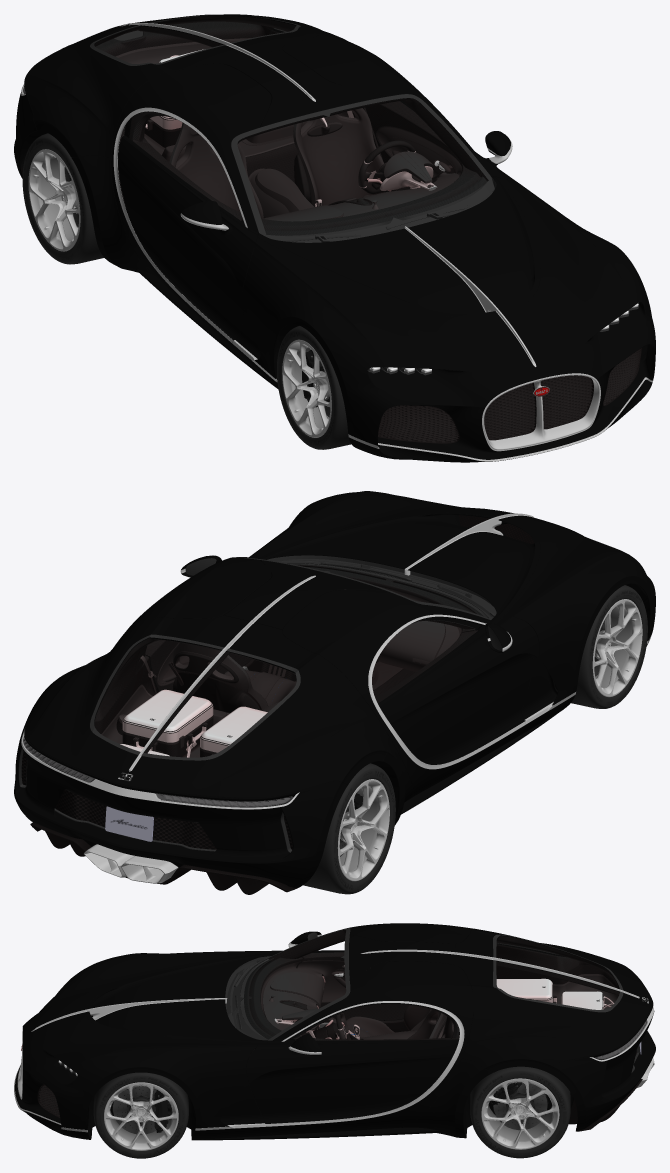
Rendered from black-car.glb.
The picture shows the model from 3 angles, top to bottom: view 1: azimuth 30°, elevation 25°; view 2: azimuth 150°, elevation 25°; view 3: azimuth 270°, elevation 25°; orthographic projection. The views are drawn at different scales.
Parts seen in each view (by area): view 1: body:Paint_Geo_lodABody_lodA_Bugatti_AtlanticConcept_2015Pai, Interior_Geo_lodA_Bugatti_AtlanticConcept_2015InteriorA_Mate, chrome:Coloured_Geo_lodABody_lodA, Carbon1M_Geo_lodA_Bugatti_AtlanticConcept_2015Carbon1M_Mater, Textured_Geo_lodA_Bugatti_AtlanticConcept_2015TexturedA_Mate, Carbon1_Geo_lodA_Bugatti_AtlanticConcept_2015Carbon1M_Materi, polySurface837_Bugatti_AtlanticConcept_2015_Wheel1A_3D_3DWhe, polySurface397_Bugatti_AtlanticConcept_2015_Wheel1A_3D_3DWhe, Grille4_Geo_lodA_Bugatti_AtlanticConcept_2015Grille4A_Materi, Base_Geo_lodA, polySurface712_Bugatti_AtlanticConcept_2015_Wheel1A_3D_3DWhe, polySurface714_Bugatti_AtlanticConcept_2015_Wheel1A_3D_3DWhe (+1 smaller); view 2: body:Paint_Geo_lodABody_lodA_Bugatti_AtlanticConcept_2015Pai, chrome:Coloured_Geo_lodABody_lodA, Carbon1M_Geo_lodA_Bugatti_AtlanticConcept_2015Carbon1M_Mater, Interior_Geo_lodA_Bugatti_AtlanticConcept_2015InteriorA_Mate, InteriorColourZone_Geo_lodA_Bugatti_AtlanticConcept_2015Inte, Grille1_Geo_lodA_Bugatti_AtlanticConcept_2015Grille1A_Materi, polySurface837_Bugatti_AtlanticConcept_2015_Wheel1A_3D_3DWhe, polySurface397_Bugatti_AtlanticConcept_2015_Wheel1A_3D_3DWhe, Base_Geo_lodA, Light_Geo_lodA, ManufacturerPlate_Geo_lodA_Bugatti_AtlanticConcept_2015Manuf, Carbon1_Geo_lodA_Bugatti_AtlanticConcept_2015Carbon1M_Materi (+4 smaller); view 3: body:Paint_Geo_lodABody_lodA_Bugatti_AtlanticConcept_2015Pai, chrome:Coloured_Geo_lodABody_lodA, Carbon1M_Geo_lodA_Bugatti_AtlanticConcept_2015Carbon1M_Mater, Interior_Geo_lodA_Bugatti_AtlanticConcept_2015InteriorA_Mate, polySurface617_Bugatti_AtlanticConcept_2015_Wheel1A_3D_3DWhe, InteriorColourZone_Geo_lodA_Bugatti_AtlanticConcept_2015Inte, polySurface188_Bugatti_AtlanticConcept_2015_Wheel1A_3D_3DWhe, Carbon1_Geo_lodA_Bugatti_AtlanticConcept_2015Carbon1M_Materi, Base_Geo_lodA, Grille4_Geo_lodA_Bugatti_AtlanticConcept_2015Grille4A_Materi, polySurface6_Bugatti_AtlanticConcept_2015_Wheel1A_3D_3DWheel, polySurface434_Bugatti_AtlanticConcept_2015_Wheel1A_3D_3DWhe (+5 smaller).
Boxes of the visible parts, <box> form: body:Paint_Geo_lodABody_lodA_Bugatti_AtlanticConcept_2015Pai: <box>14,14,655,462</box>; Interior_Geo_lodA_Bugatti_AtlanticConcept_2015InteriorA_Mate: <box>115,38,459,221</box>; chrome:Coloured_Geo_lodABody_lodA: <box>21,14,653,461</box>; Carbon1M_Geo_lodA_Bugatti_AtlanticConcept_2015Carbon1M_Mater: <box>20,21,488,235</box>; Textured_Geo_lodA_Bugatti_AtlanticConcept_2015TexturedA_Mate: <box>378,347,642,443</box>; Carbon1_Geo_lodA_Bugatti_AtlanticConcept_2015Carbon1M_Materi: <box>94,15,436,193</box>; polySurface837_Bugatti_AtlanticConcept_2015_Wheel1A_3D_3DWhe: <box>22,139,84,261</box>; polySurface397_Bugatti_AtlanticConcept_2015_Wheel1A_3D_3DWhe: <box>277,330,336,447</box>; Grille4_Geo_lodA_Bugatti_AtlanticConcept_2015Grille4A_Materi: <box>248,126,462,217</box>; Base_Geo_lodA: <box>20,14,647,440</box>; polySurface712_Bugatti_AtlanticConcept_2015_Wheel1A_3D_3DWhe: <box>41,156,78,241</box>; polySurface714_Bugatti_AtlanticConcept_2015_Wheel1A_3D_3DWhe: <box>28,150,79,250</box>; body:Paint_Geo_lodABody_lodA_Bugatti_AtlanticConcept_2015Pai: <box>14,491,655,887</box>; chrome:Coloured_Geo_lodABody_lodA: <box>18,513,651,883</box>; Carbon1M_Geo_lodA_Bugatti_AtlanticConcept_2015Carbon1M_Mater: <box>30,557,483,894</box>; Interior_Geo_lodA_Bugatti_AtlanticConcept_2015InteriorA_Mate: <box>101,586,523,757</box>; InteriorColourZone_Geo_lodA_Bugatti_AtlanticConcept_2015Inte: <box>120,689,267,757</box>; Grille1_Geo_lodA_Bugatti_AtlanticConcept_2015Grille1A_Materi: <box>21,515,557,849</box>; polySurface837_Bugatti_AtlanticConcept_2015_Wheel1A_3D_3DWhe: <box>333,769,395,891</box>; polySurface397_Bugatti_AtlanticConcept_2015_Wheel1A_3D_3DWhe: <box>588,590,647,706</box>; Base_Geo_lodA: <box>41,557,650,818</box>; Light_Geo_lodA: <box>23,736,293,807</box>; ManufacturerPlate_Geo_lodA_Bugatti_AtlanticConcept_2015Manuf: <box>105,806,153,841</box>; Carbon1_Geo_lodA_Bugatti_AtlanticConcept_2015Carbon1M_Materi: <box>96,638,295,753</box>; body:Paint_Geo_lodABody_lodA_Bugatti_AtlanticConcept_2015Pai: <box>15,923,655,1140</box>; chrome:Coloured_Geo_lodABody_lodA: <box>14,928,654,1132</box>; Carbon1M_Geo_lodA_Bugatti_AtlanticConcept_2015Carbon1M_Mater: <box>244,930,642,1131</box>; Interior_Geo_lodA_Bugatti_AtlanticConcept_2015InteriorA_Mate: <box>250,961,618,1054</box>; polySurface617_Bugatti_AtlanticConcept_2015_Wheel1A_3D_3DWhe: <box>473,1071,567,1157</box>; InteriorColourZone_Geo_lodA_Bugatti_AtlanticConcept_2015Inte: <box>496,978,614,1009</box>; polySurface188_Bugatti_AtlanticConcept_2015_Wheel1A_3D_3DWhe: <box>97,1076,185,1157</box>; Carbon1_Geo_lodA_Bugatti_AtlanticConcept_2015Carbon1M_Materi: <box>301,936,619,1039</box>; Base_Geo_lodA: <box>87,930,619,1138</box>; Grille4_Geo_lodA_Bugatti_AtlanticConcept_2015Grille4A_Materi: <box>297,960,445,1037</box>; polySurface6_Bugatti_AtlanticConcept_2015_Wheel1A_3D_3DWheel: <box>113,1086,156,1134</box>; polySurface434_Bugatti_AtlanticConcept_2015_Wheel1A_3D_3DWhe: <box>493,1082,547,1130</box>.
Size of what is drawn, in the model's own units: 0.0209 by 0.0126 by 0.0477.
22 materials, 14 textured.
